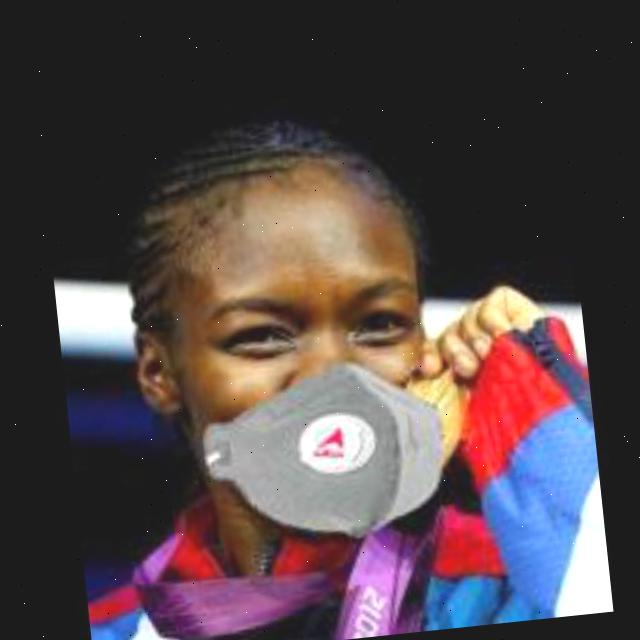suspicion: (134, 124, 504, 544)
